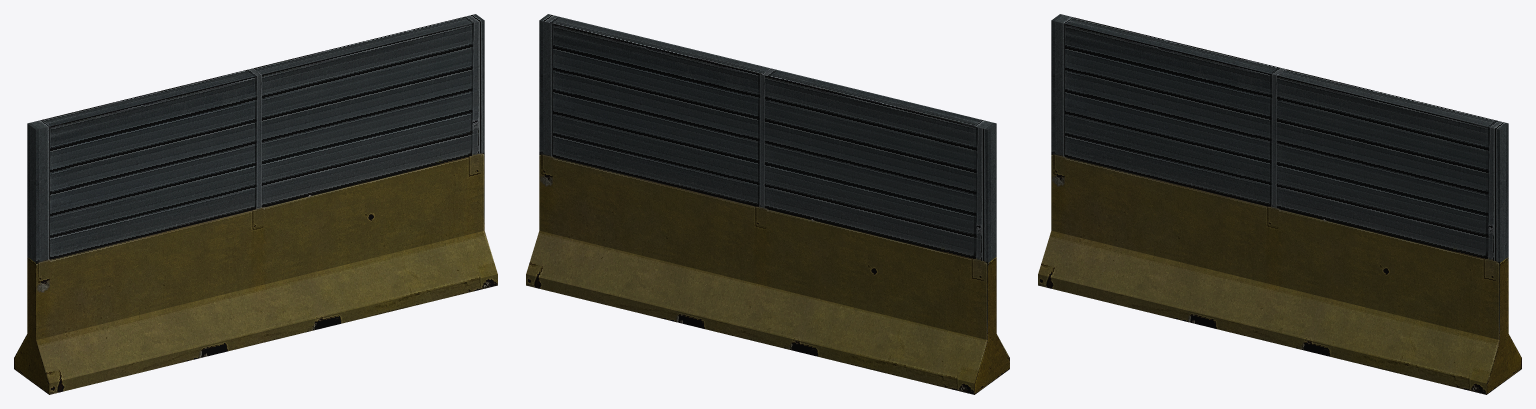
File: barricade_a_3.glb
The picture shows the model from 3 angles, left to right: view 1: azimuth 30°, elevation 25°; view 2: azimuth 150°, elevation 25°; view 3: azimuth 330°, elevation 25°; orthographic projection.
Parts seen in each view (by area): view 1: barricade_a_3; view 2: barricade_a_3; view 3: barricade_a_3.
Boxes of the visible parts, x1,y1,x2,y2 form: barricade_a_3: (14,14,497,394); barricade_a_3: (526,14,1009,394); barricade_a_3: (1038,14,1521,394).
Bounding box in the file's own units: 2.94 × 1.6 × 0.4.
1 material, 1 textured.
